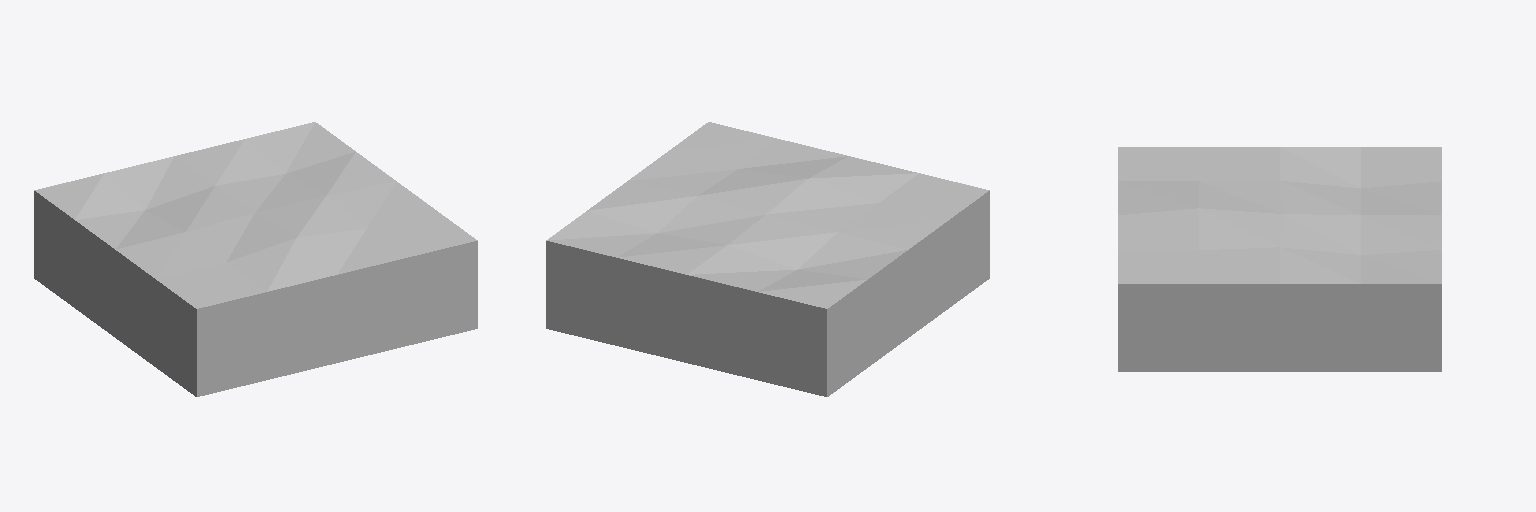
The model's file is Snowtile_5.obj.
3 views of the same model, side by side, from view 1: azimuth 30°, elevation 25°; view 2: azimuth 150°, elevation 25°; view 3: azimuth 270°, elevation 25° (orthographic).
Parts seen in each view (by area): view 1: Cube; view 2: Cube; view 3: Cube.
Part boxes in pixels (left/top/right/bottom): Cube: left=34, top=122, right=477, bottom=396; Cube: left=546, top=122, right=989, bottom=396; Cube: left=1118, top=147, right=1441, bottom=371.
Bounding box in the file's own units: 2 × 0.6489 × 2.